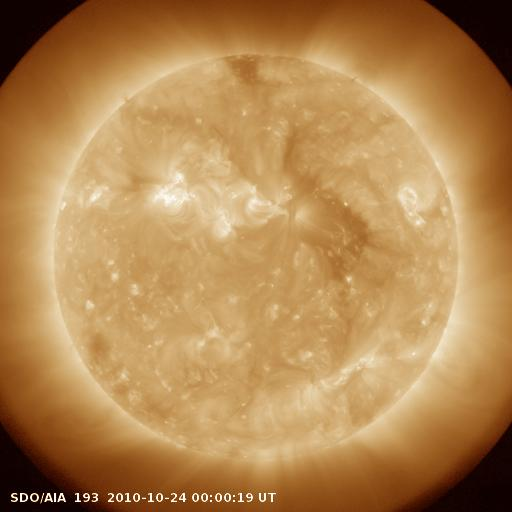coronal_hole: (285, 147, 389, 289)
